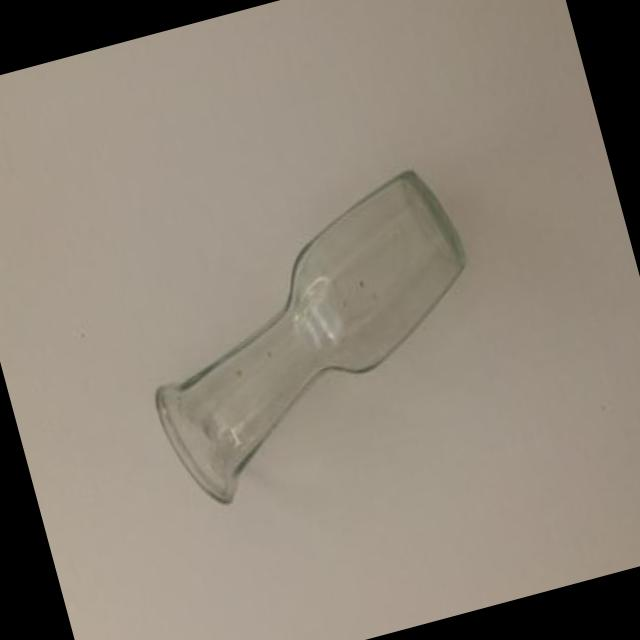chai_thuy_tinh: (154, 172, 469, 505)
